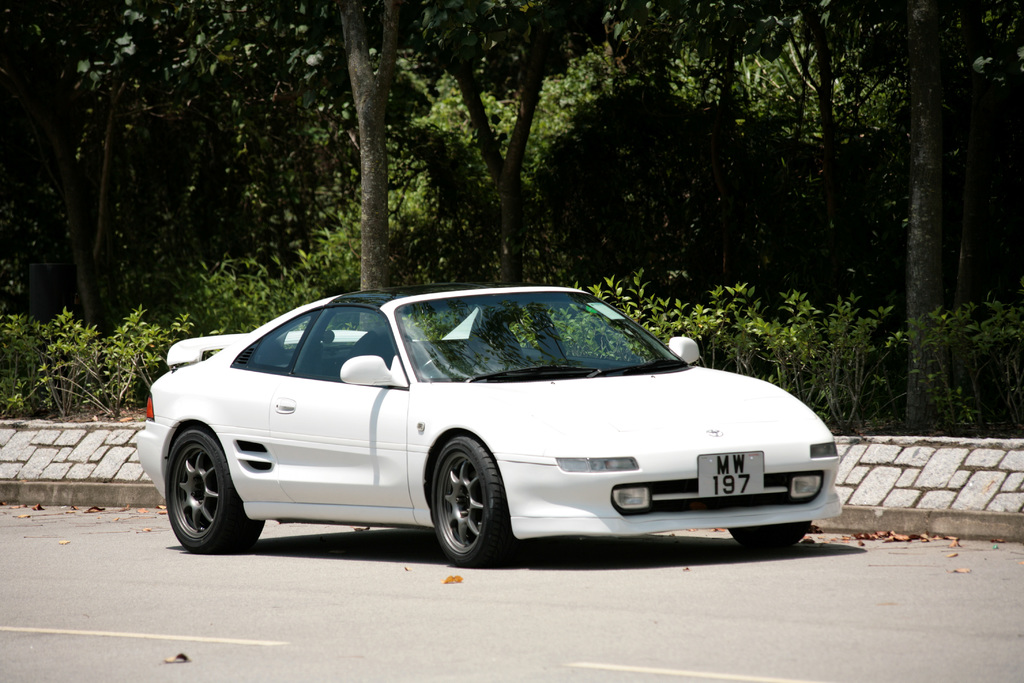Car: (132, 287, 845, 566)
